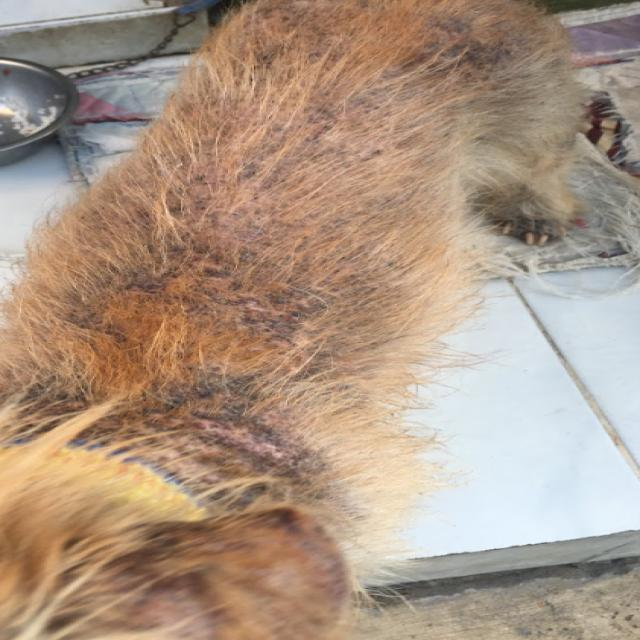demodicosis: (140, 240, 324, 329), (139, 403, 307, 469)
